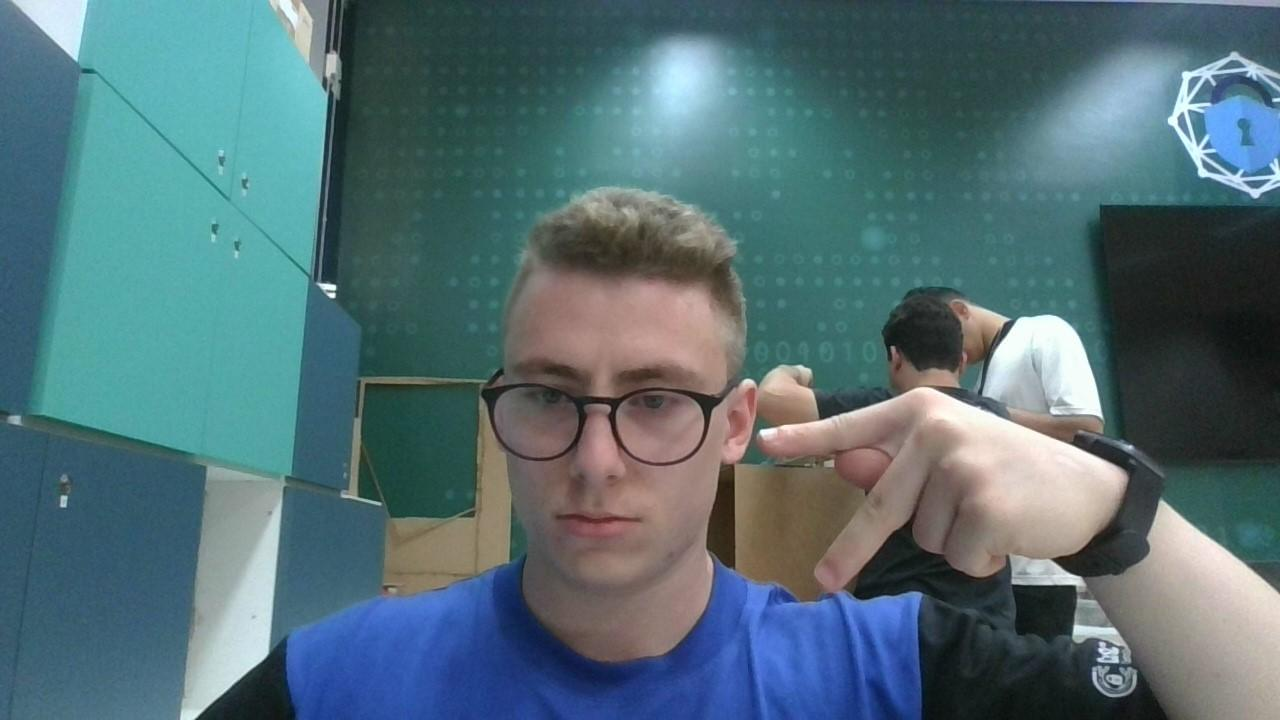P: (744, 394, 1100, 596)
